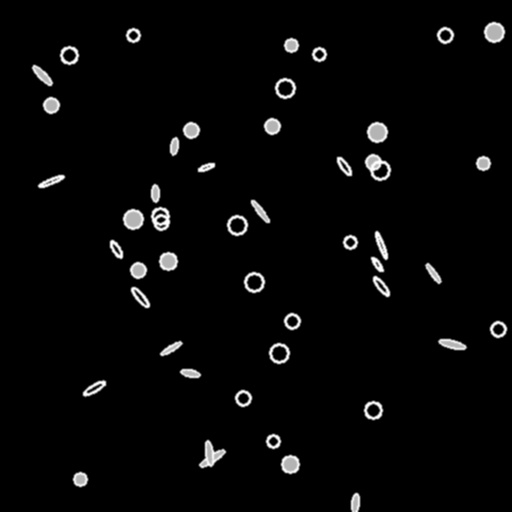pseudomonas: (198, 448, 226, 468), (250, 199, 270, 223), (130, 285, 150, 309), (32, 64, 52, 86), (371, 275, 391, 297), (82, 379, 106, 397), (424, 262, 442, 284), (438, 337, 466, 351), (374, 231, 388, 259), (38, 174, 64, 188), (335, 156, 353, 176), (160, 340, 182, 356), (108, 239, 124, 259), (204, 440, 214, 466), (370, 256, 384, 272), (180, 368, 200, 378), (169, 137, 179, 155), (198, 162, 214, 172), (351, 493, 359, 512), (151, 184, 159, 202)
synechocystis: (276, 79, 294, 97), (270, 344, 288, 362), (368, 123, 386, 141), (485, 23, 503, 41), (245, 273, 263, 291), (124, 210, 142, 228), (371, 161, 389, 179), (228, 216, 246, 234), (365, 402, 381, 418), (152, 208, 168, 224), (61, 47, 77, 63), (160, 253, 176, 269), (282, 456, 298, 472), (366, 155, 380, 169), (438, 28, 452, 42), (285, 314, 299, 328), (236, 391, 250, 405), (491, 322, 505, 336), (265, 119, 279, 133), (44, 98, 58, 112), (131, 263, 145, 277), (184, 123, 198, 137), (154, 215, 168, 229), (285, 39, 297, 51), (74, 473, 86, 485), (127, 29, 139, 41), (267, 435, 279, 447), (344, 236, 356, 248), (313, 48, 325, 60), (477, 157, 489, 169)
